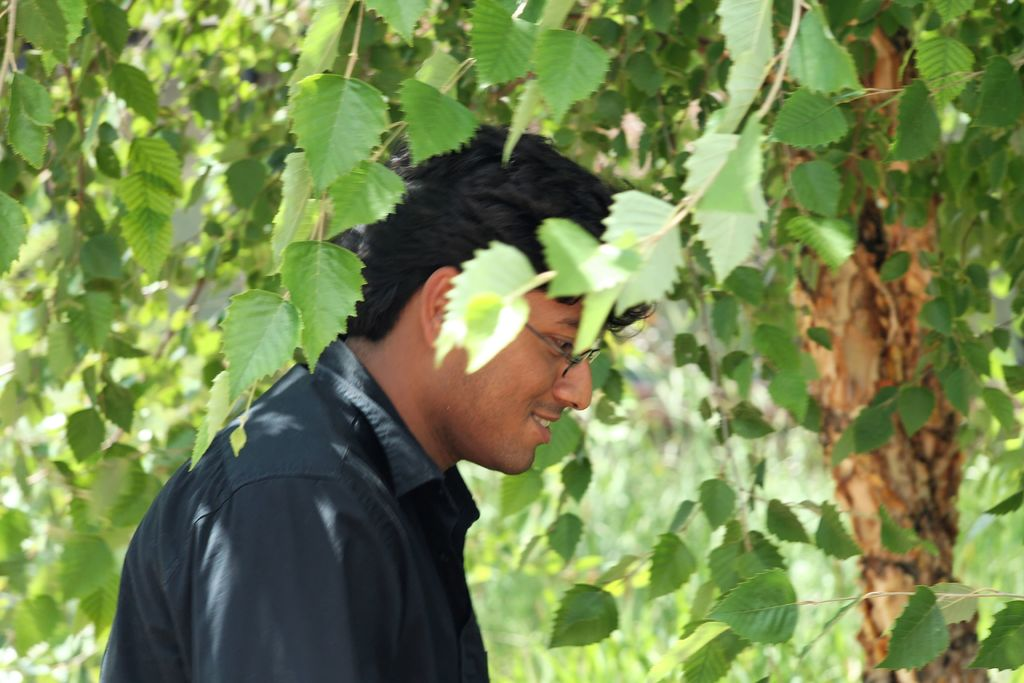face: (452, 258, 609, 469)
